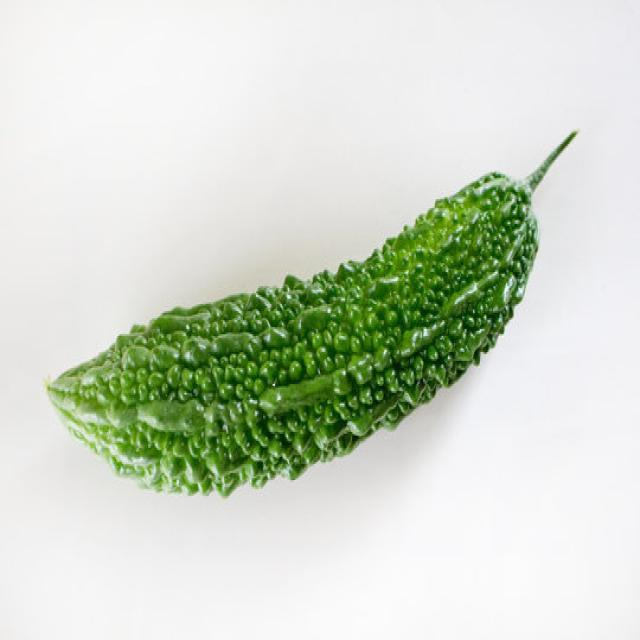Bitter_Gourd: (44, 126, 578, 498)
